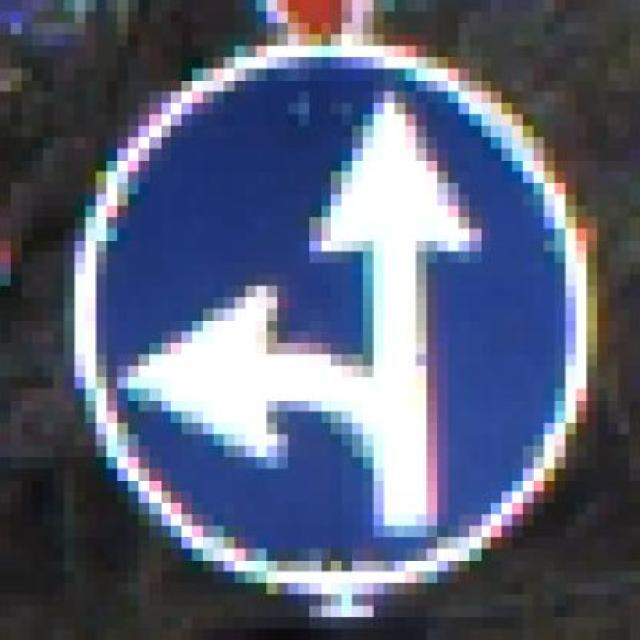Go straight or turn left: (53, 34, 630, 594)
